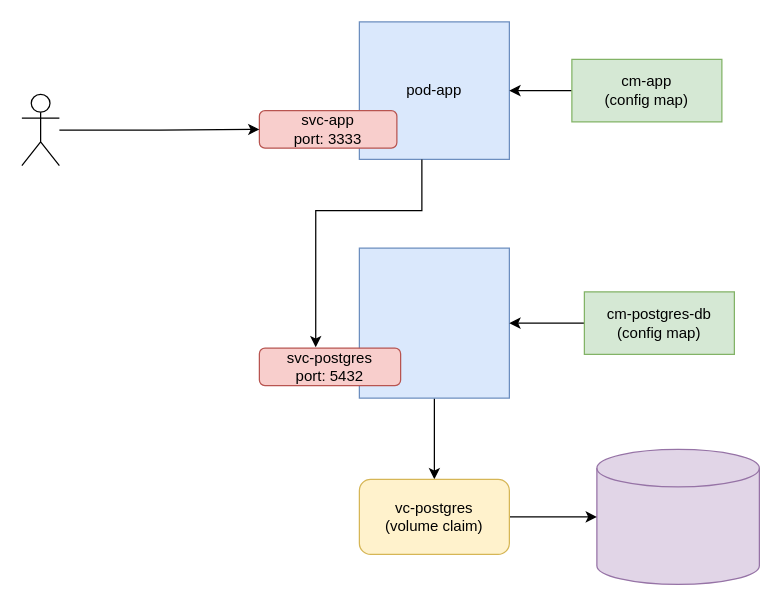
The diagram is 781 pixels wide and 606 high, and some of its shapes have lost their labels. The centre of each missing label's shape, as x and y in pixels:
"Actor" goes at [40,129].
"pod-postgres-db" goes at [433,322].
"vp-postgres-db (volume persistence)" goes at [677,516].
